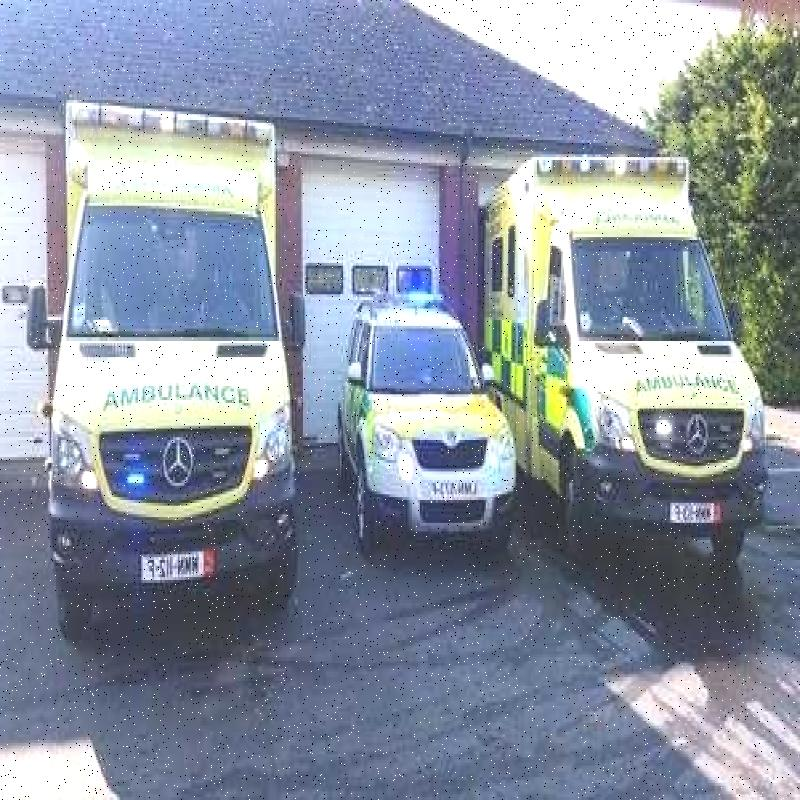AmbulanceSiren: (66, 92, 281, 142), (528, 142, 688, 194), (376, 288, 449, 299)
